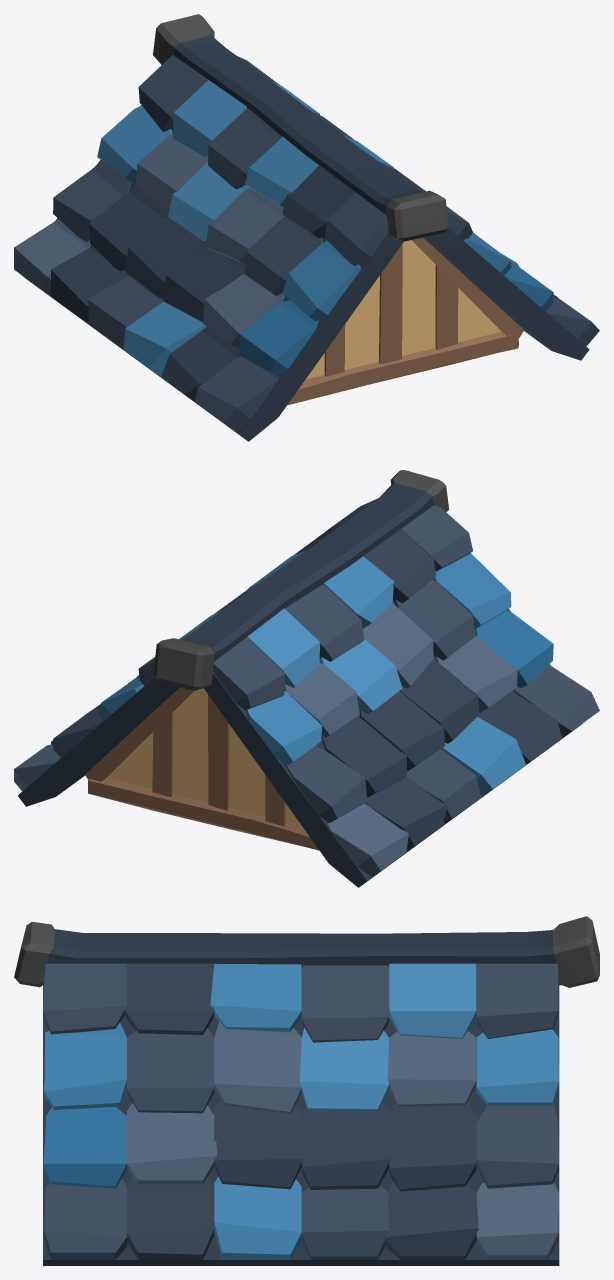
File: House_Roof_L.fbx
3 renders of one model, top to bottom at view 1: azimuth 30°, elevation 25°; view 2: azimuth 150°, elevation 25°; view 3: azimuth 270°, elevation 25°, orthographic. The views are drawn at different scales.
Visible parts, largest first — view 1: House_Roof_L; view 2: House_Roof_L; view 3: House_Roof_L.
Part boxes in pixels (x1,y1,x2,y2): House_Roof_L: (14, 14, 599, 441); House_Roof_L: (14, 470, 599, 887); House_Roof_L: (14, 916, 599, 1265).
Bounding box in the file's own units: 531 × 284 × 616.
